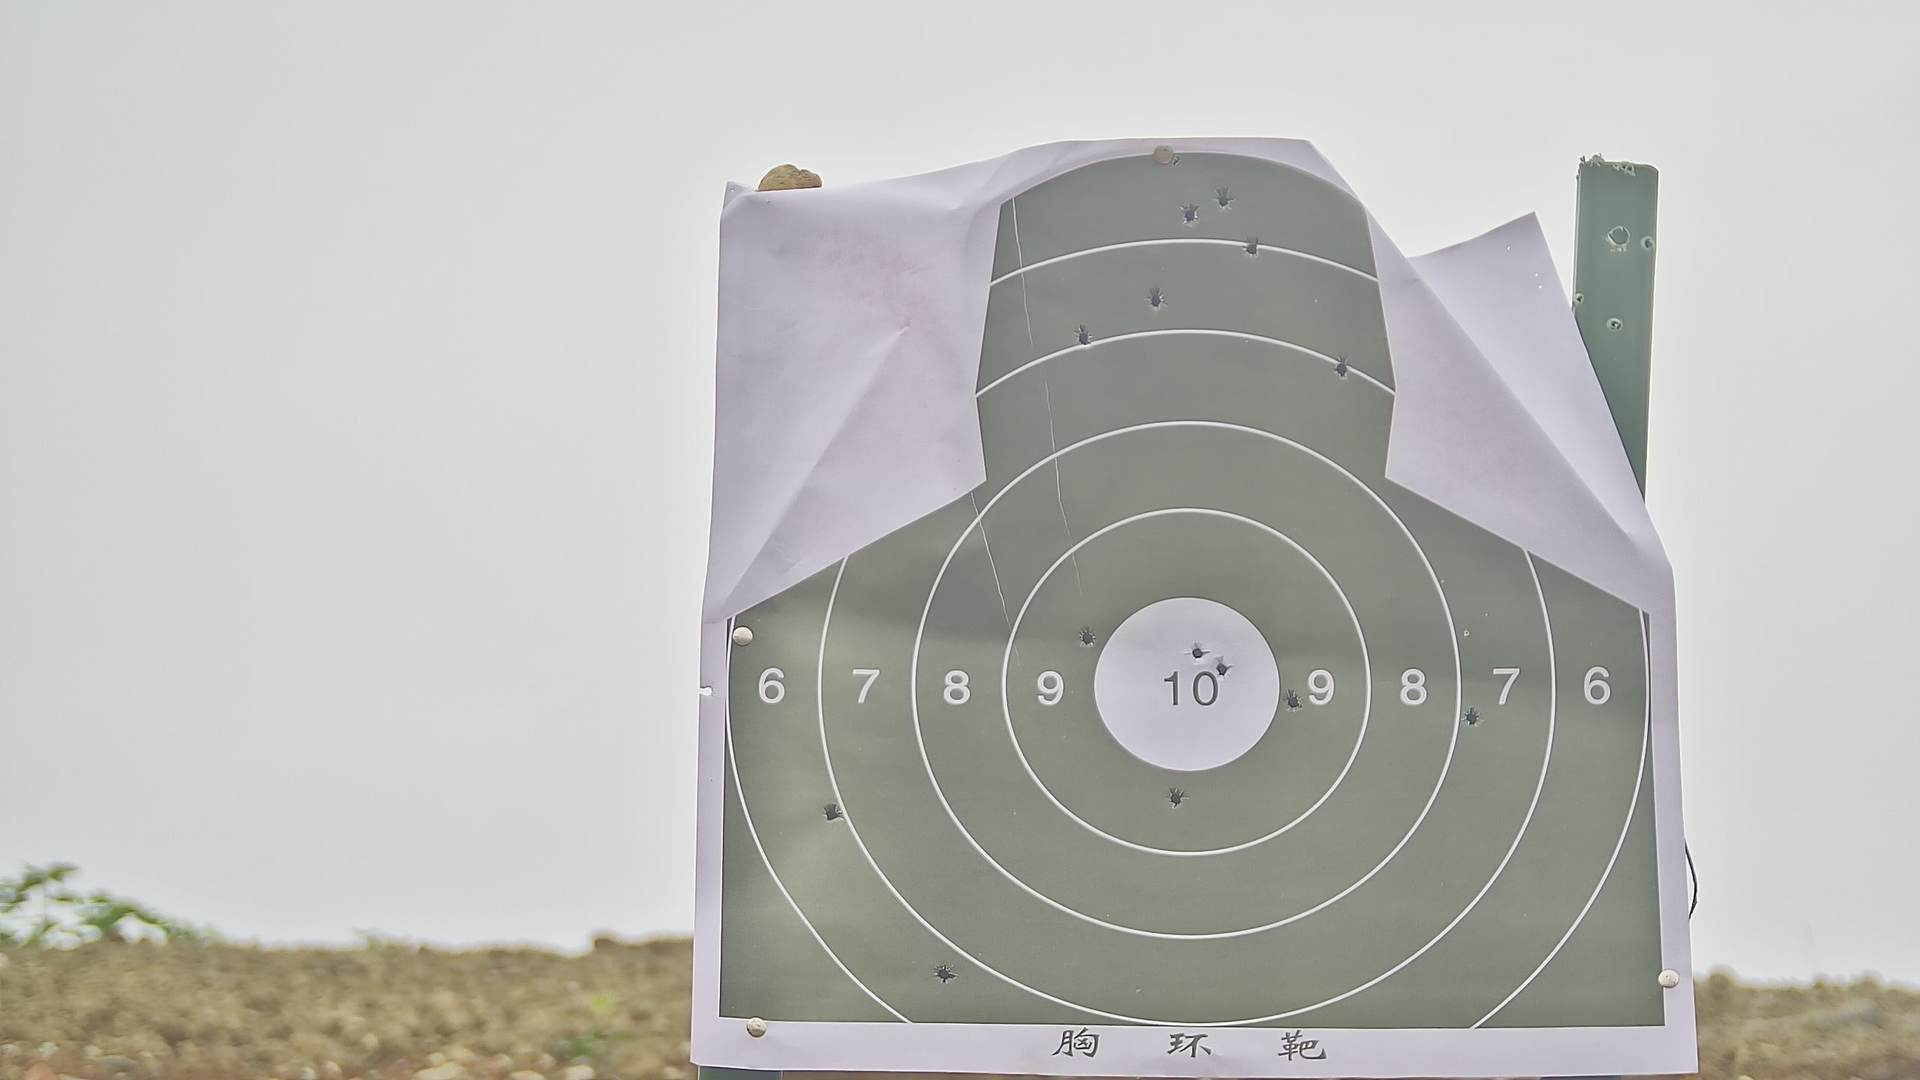hole: (1075, 326, 1091, 345), (1244, 239, 1261, 256), (1077, 629, 1095, 646), (825, 804, 843, 820), (1217, 190, 1232, 208), (935, 967, 953, 981), (1465, 708, 1480, 727), (1287, 692, 1302, 709), (1180, 207, 1196, 222), (1215, 661, 1229, 676), (1168, 789, 1182, 806), (1336, 359, 1346, 378), (1189, 644, 1203, 659), (1149, 291, 1162, 305)
target: (725, 160, 1671, 1033)
ten: (1092, 595, 1282, 771)
